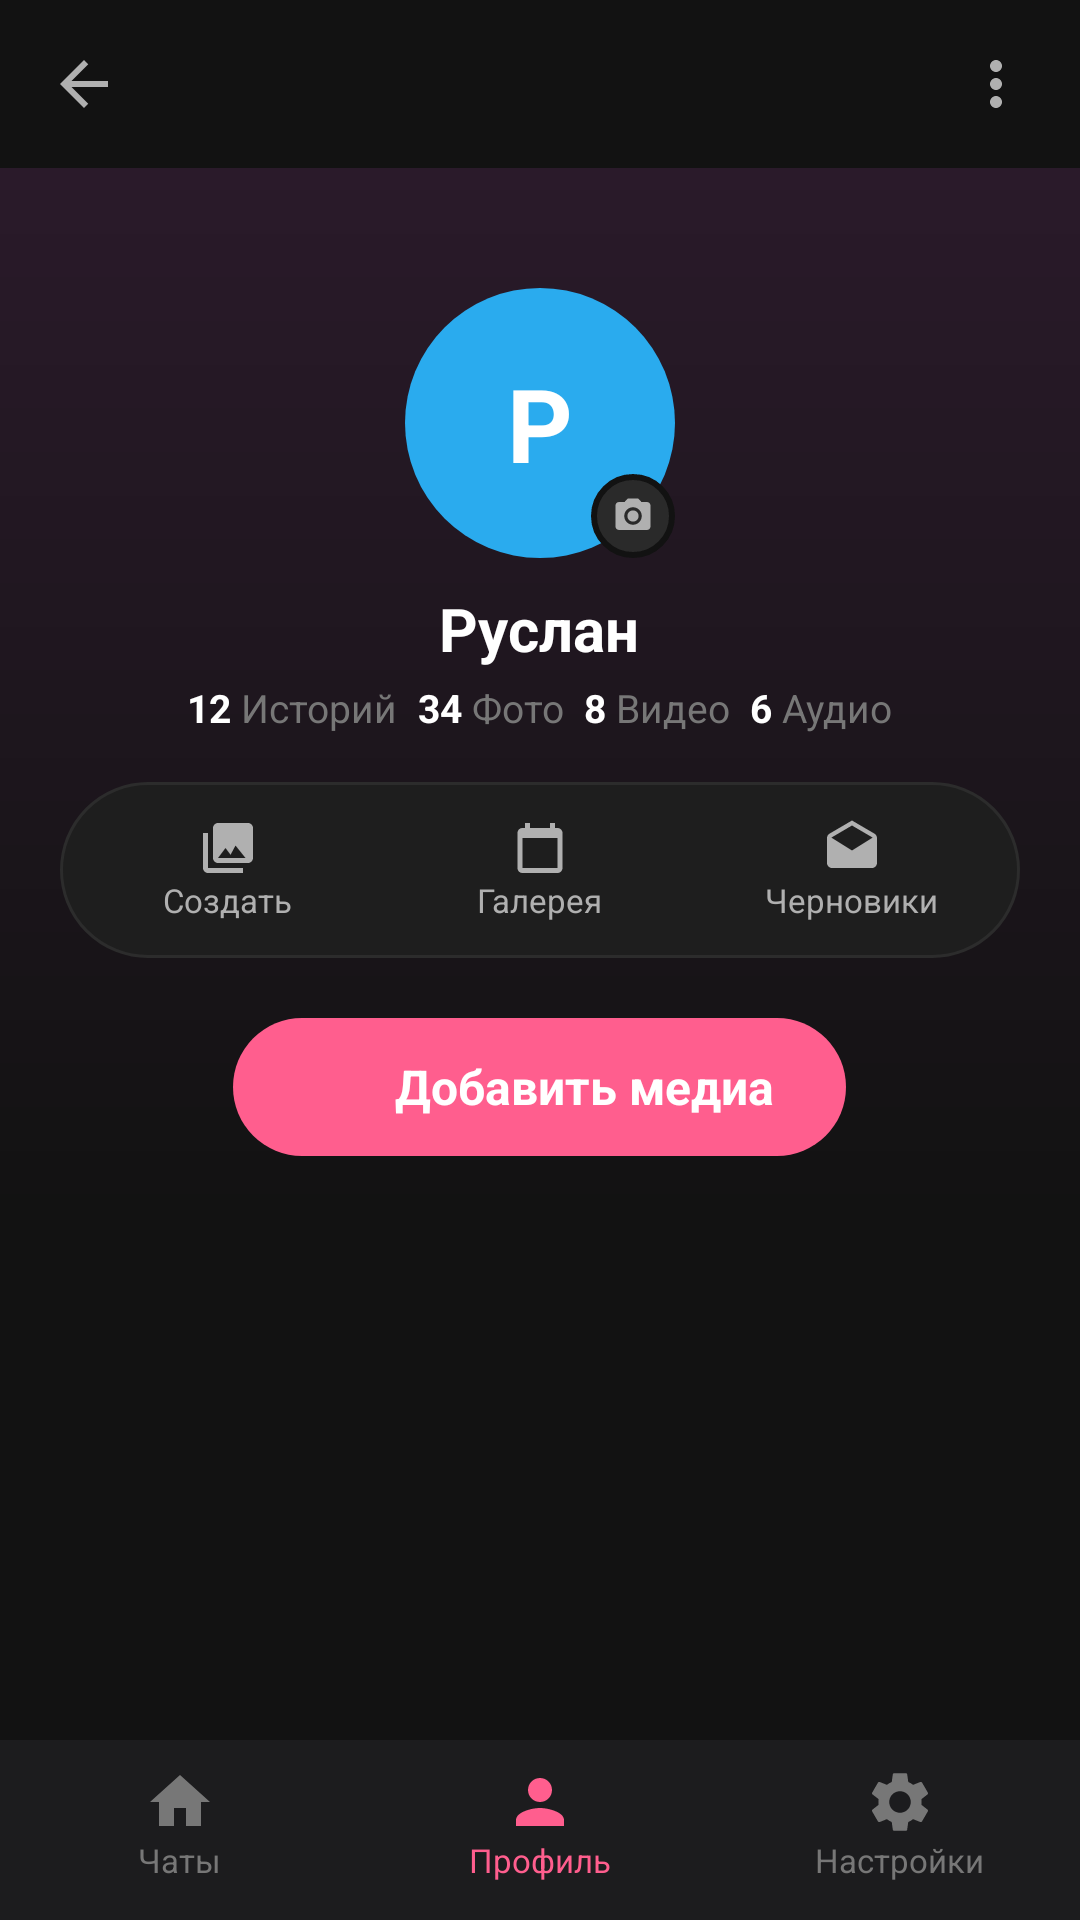

Locate icon controls on the screen. Image size 1080px×1920px, boxes as (x1, y1, x2, y2).
arrow back: (60, 60, 108, 108)
calendar: (517, 823, 563, 873)
camera: (615, 498, 651, 530)
gallery: (203, 823, 253, 873)
home simple: (150, 1775, 210, 1826)
more vert: (990, 60, 1002, 108)
